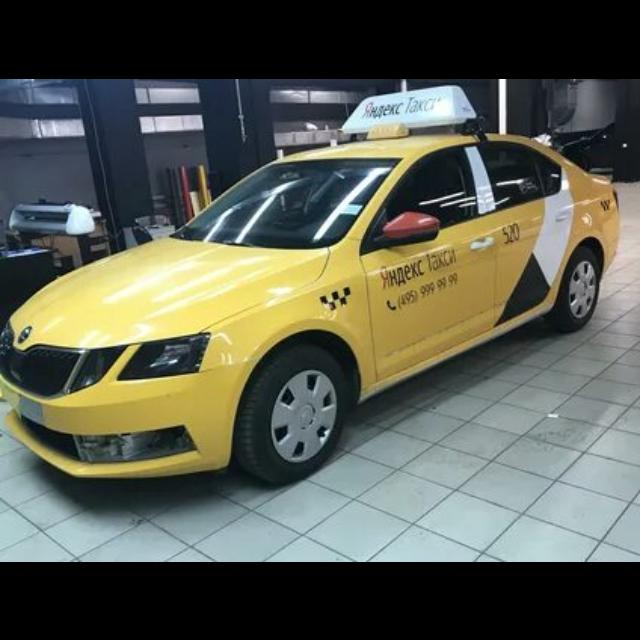taxi: (1, 84, 621, 487)
